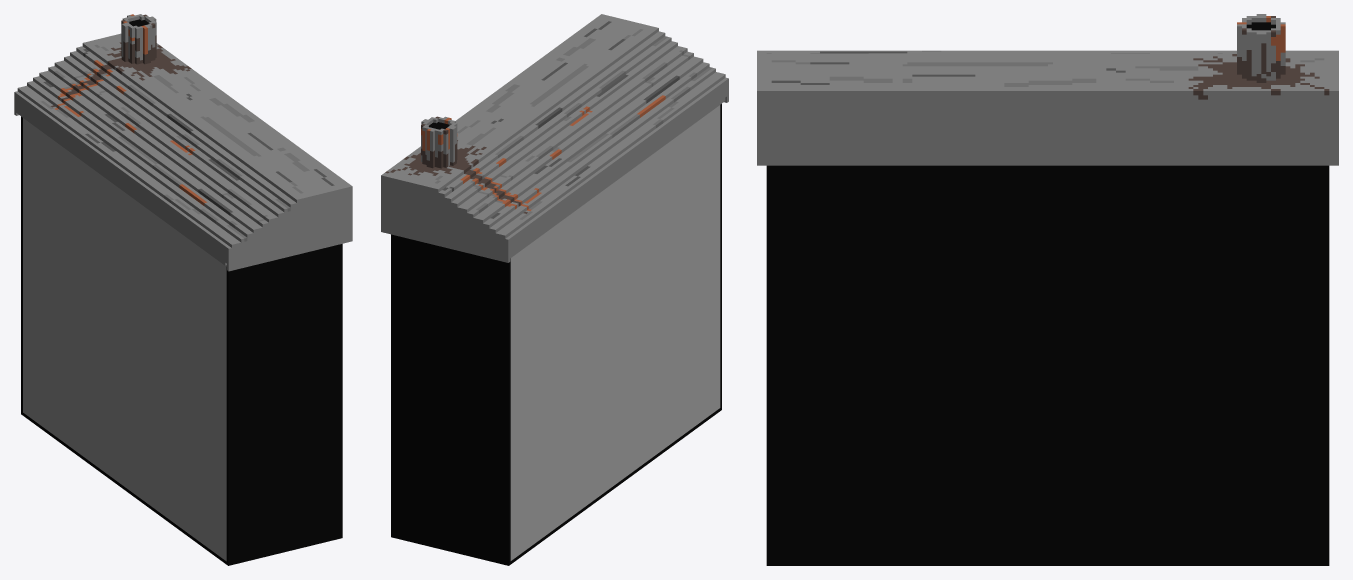
File: Telhado_01.obj
3 views of the same model, side by side, from view 1: azimuth 30°, elevation 25°; view 2: azimuth 150°, elevation 25°; view 3: azimuth 270°, elevation 25° (orthographic). The views are drawn at different scales.
Size of the model in its own units: 40 by 120 by 120.
Materials: 1 (1 with a texture image).
